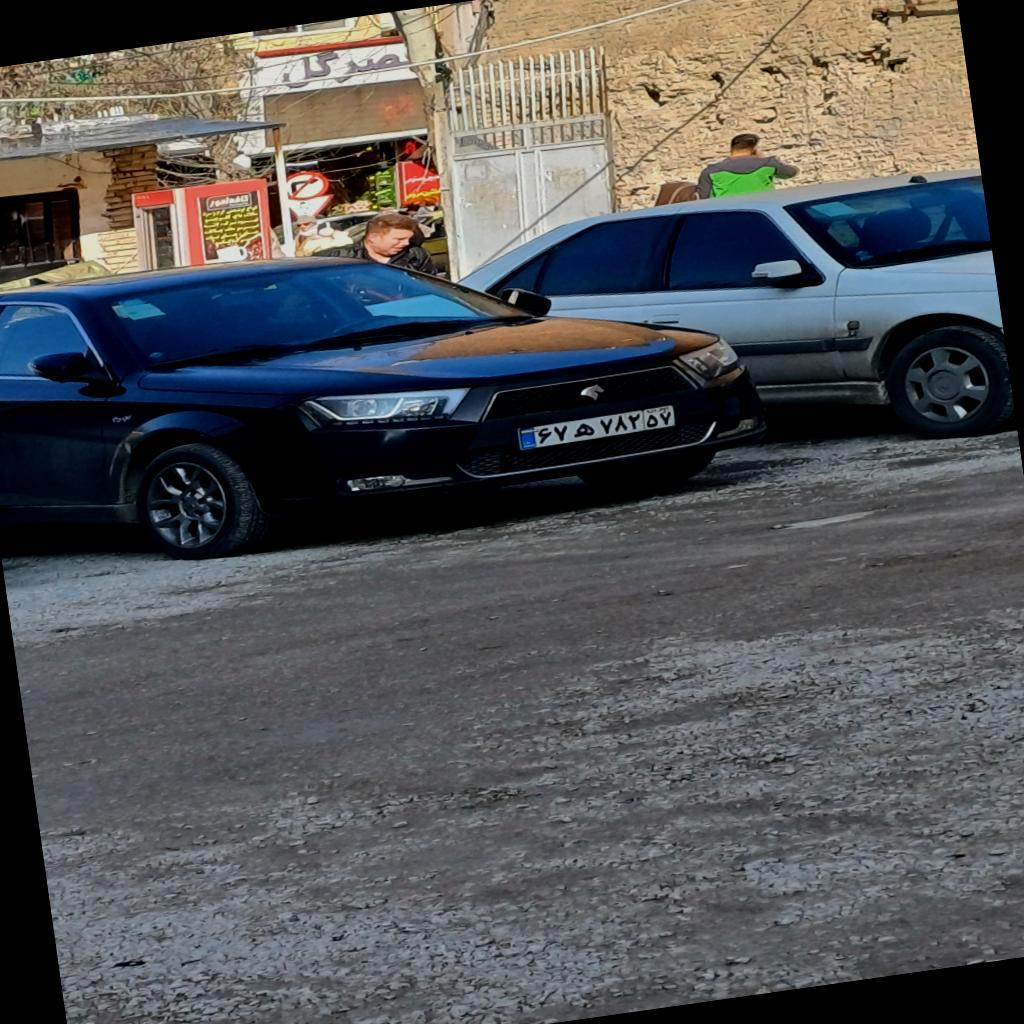Plates: (518, 404, 676, 450)
